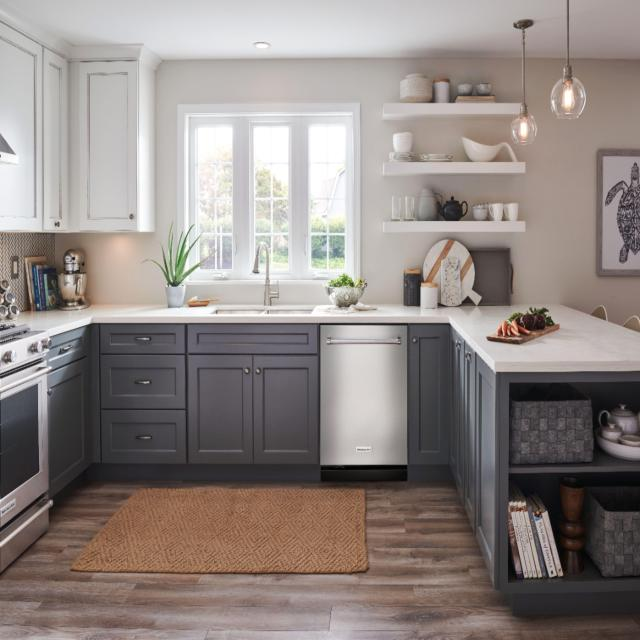dishwasher: (316, 321, 412, 481)
